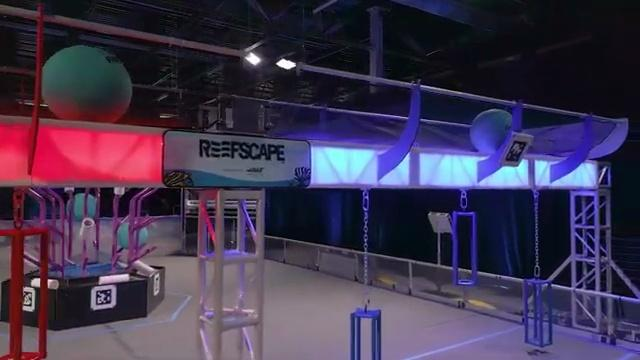ALGAE: (40, 43, 133, 123), (471, 109, 520, 155)
